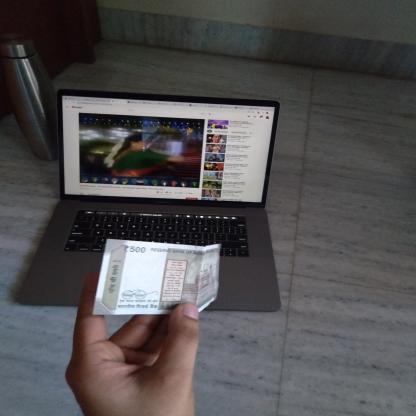New500Back: (97, 242, 223, 316)
